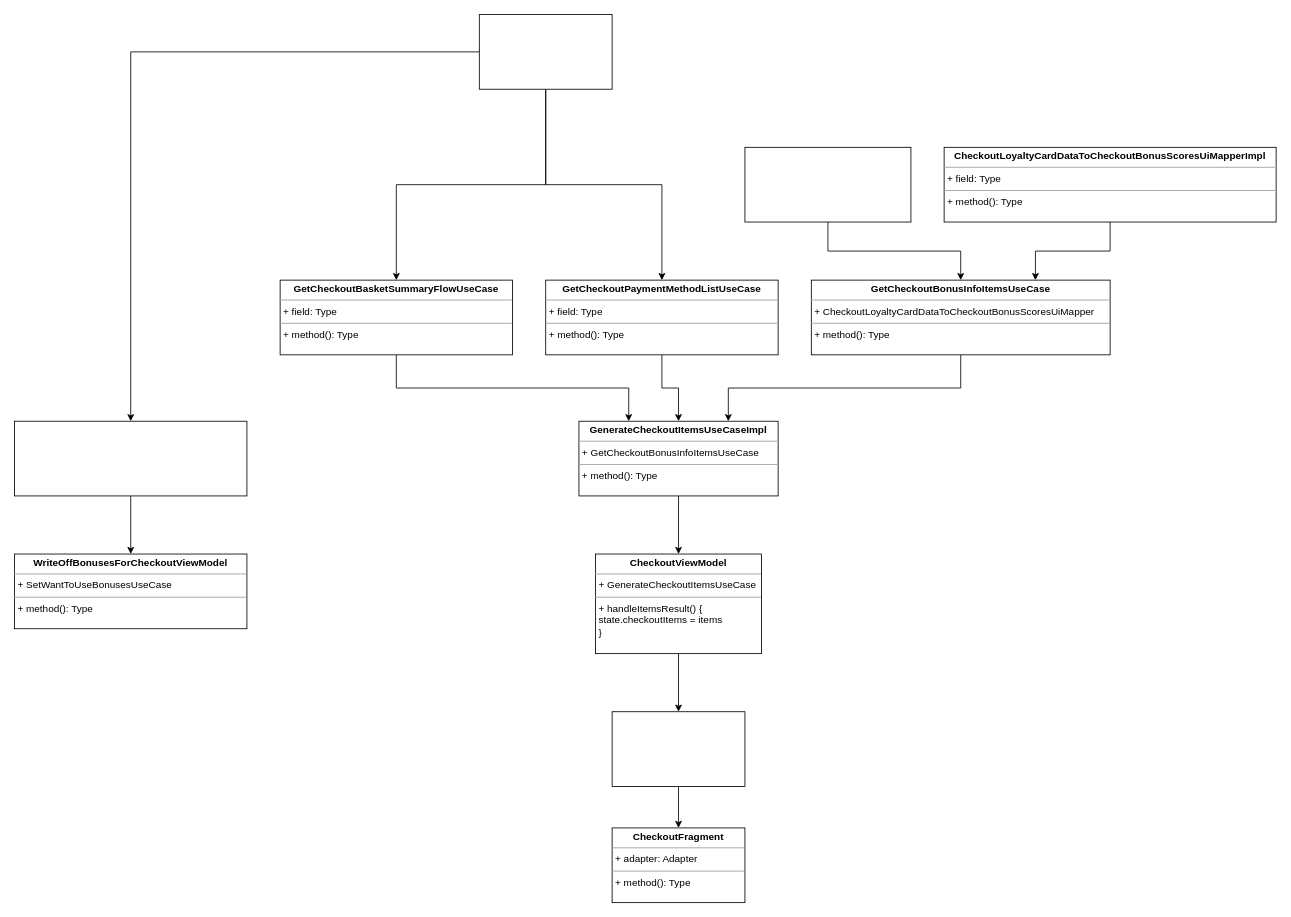
Image size: 1291x917. Some labels were removed from this diagram. Here are the shapes that lost their labels. From the top down, the centre of each, then its label:
At (x=545, y=51): "CheckoutRepositoryImpl + _summaryDataFlow + method(): Type".
At (x=827, y=184): "CheckoutValidationManager + appliedBonusAmountFlow + method(): Type".
At (x=130, y=458): "SetWantToUseBonusesUseCaseImpl + field: Type + method(): Type".
At (x=678, y=748): "CheckoutUiState + checkoutItems: List + method(): Type".
